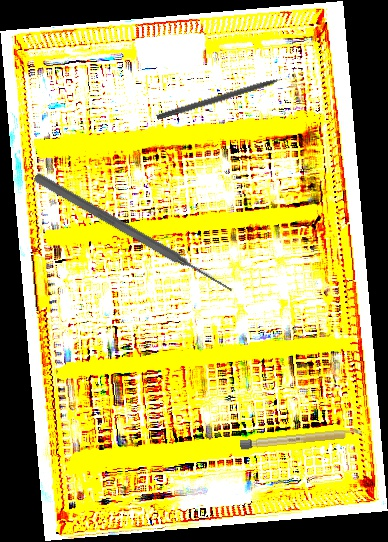Hook Surgical: (155, 72, 297, 122)
Pusher: (31, 170, 238, 298)
Scalpel Handle: (239, 427, 363, 451)
